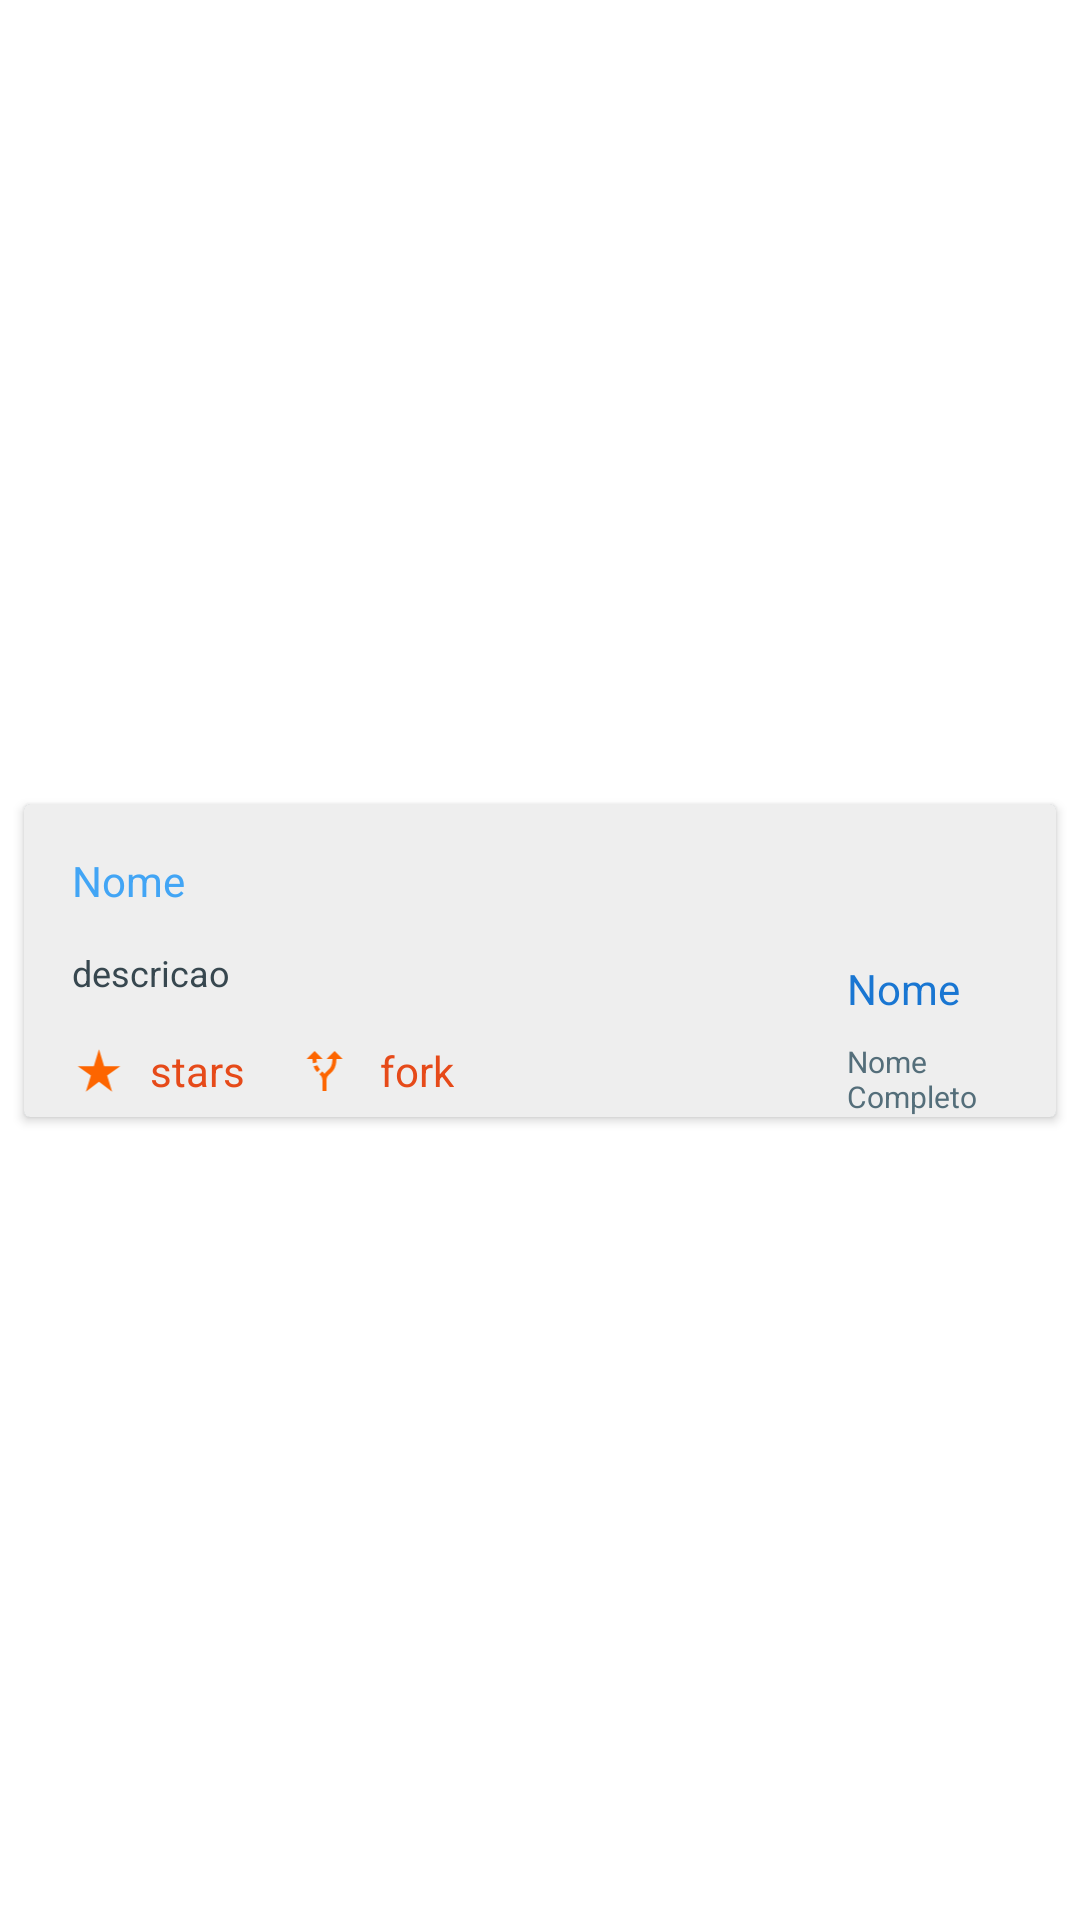

Screen size 1080w x 1920h. Icon name, then its box in pixels as (x1,y1,x2,y2):
route: (306,1051,343,1091)
star rate: (78,1050,120,1092)
